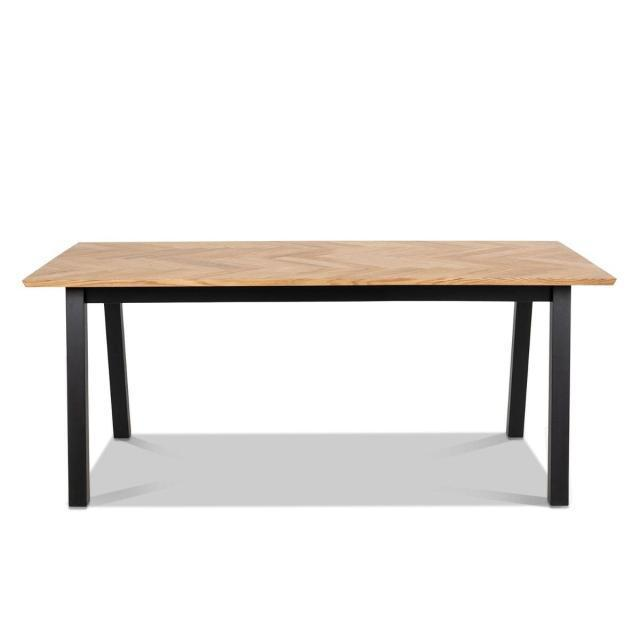table: (16, 216, 616, 534)
